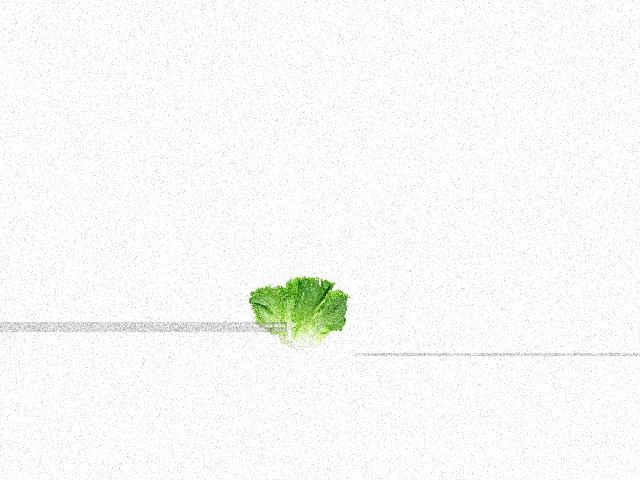lettuce: (253, 278, 348, 350)
